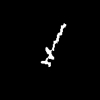double_crochet: (41, 24, 65, 66)
